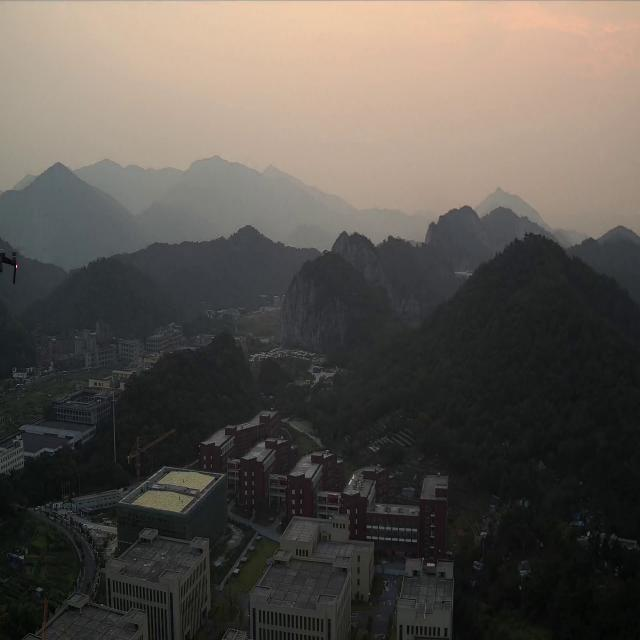UAV: (0, 246, 20, 284)
